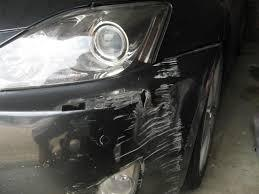front-bumper-dent: (24, 53, 202, 193)
